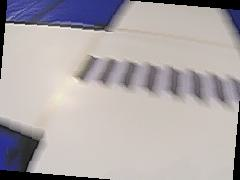CrossWalk: (68, 52, 239, 107)
